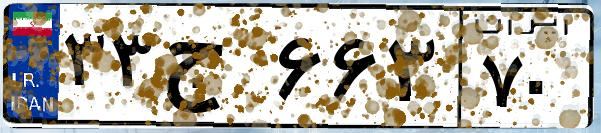0: (525, 38, 570, 115)
3: (385, 28, 445, 110), (57, 26, 110, 100), (110, 28, 158, 98)
6: (270, 28, 330, 110), (330, 28, 385, 110)
7: (475, 38, 525, 113)
ج: (158, 20, 270, 120)
